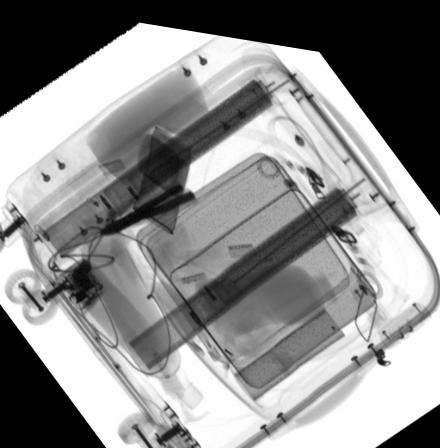Pliers: (99, 178, 198, 232)
